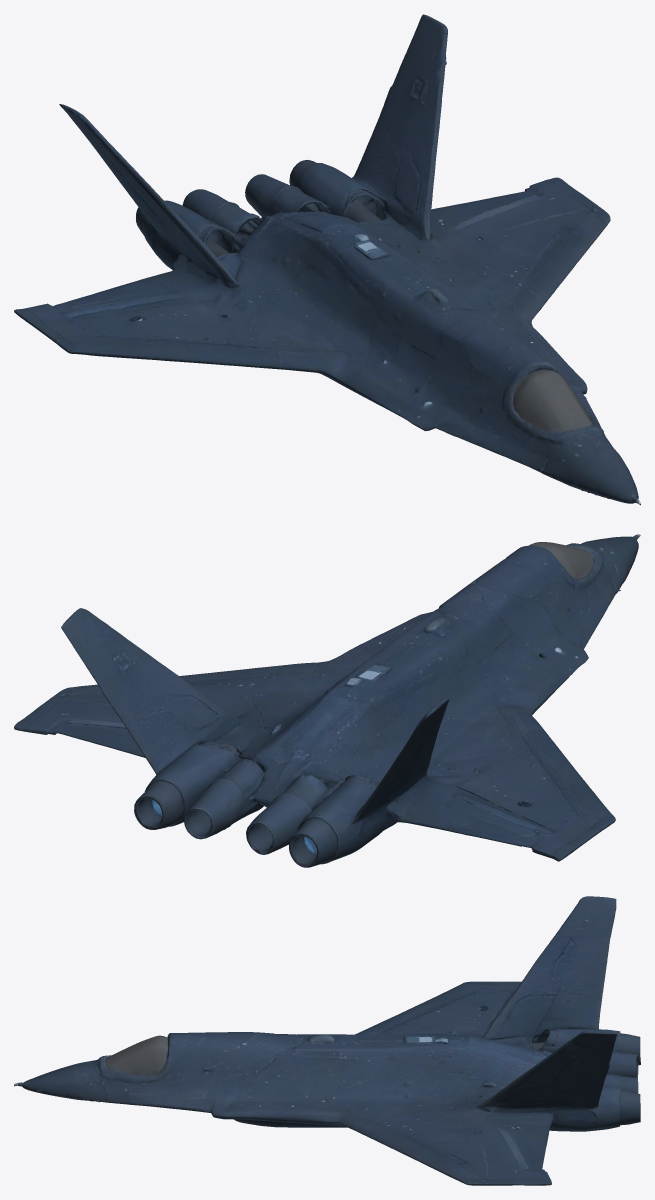
Rendered from tugrul.glb.
The picture shows the model from 3 angles, top to bottom: view 1: azimuth 30°, elevation 25°; view 2: azimuth 150°, elevation 25°; view 3: azimuth 270°, elevation 25°; orthographic projection. The views are drawn at different scales.
Visible parts, largest first — view 1: tripo_node_ca71f02b-56da-4ea0-8f6b-91f8fde3a19f; view 2: tripo_node_ca71f02b-56da-4ea0-8f6b-91f8fde3a19f; view 3: tripo_node_ca71f02b-56da-4ea0-8f6b-91f8fde3a19f.
Boxes of the visible parts, <box> form: tripo_node_ca71f02b-56da-4ea0-8f6b-91f8fde3a19f: <box>14,14,640,505</box>; tripo_node_ca71f02b-56da-4ea0-8f6b-91f8fde3a19f: <box>14,534,640,867</box>; tripo_node_ca71f02b-56da-4ea0-8f6b-91f8fde3a19f: <box>14,896,640,1185</box>.
Size of the model in its own units: 0.7639 by 0.2725 by 1.
1 material, 1 textured.
